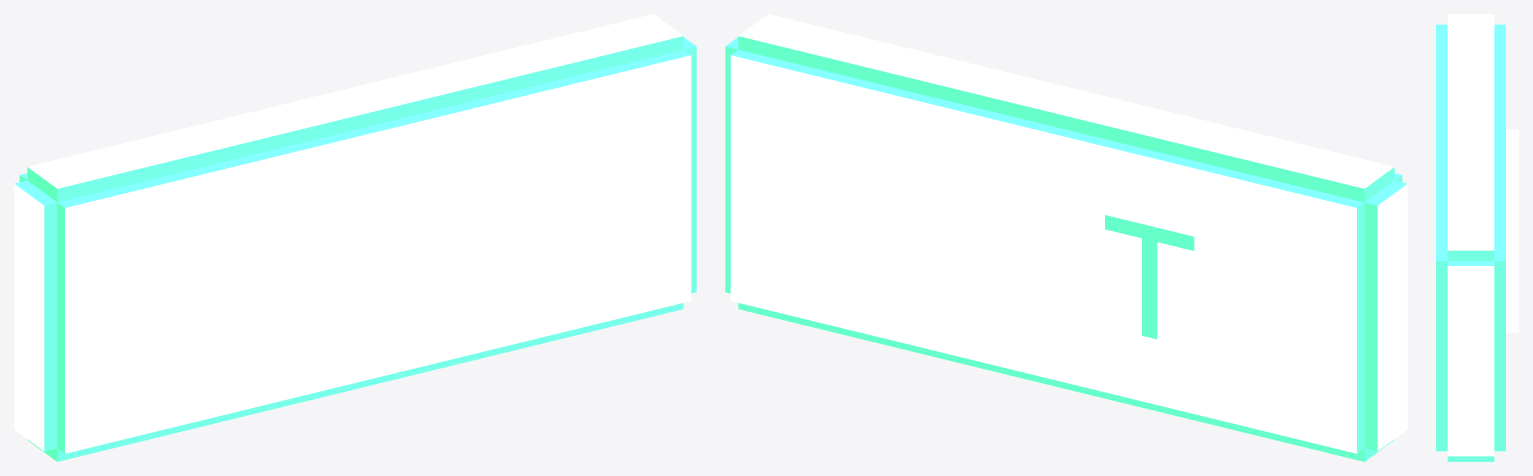
The model's file is sign_exit.glb.
3 renders of one model, left to right at view 1: azimuth 30°, elevation 25°; view 2: azimuth 150°, elevation 25°; view 3: azimuth 270°, elevation 25°, orthographic. The views are drawn at different scales.
Parts seen in each view (by area): view 1: sign_exit; view 2: sign_exit; view 3: sign_exit.
Boxes of the visible parts, <box> form: sign_exit: <box>14,14,696,461</box>; sign_exit: <box>725,14,1407,461</box>; sign_exit: <box>1436,14,1518,461</box>.
Size of the model in its own units: 0.5 by 0.2 by 0.071.
